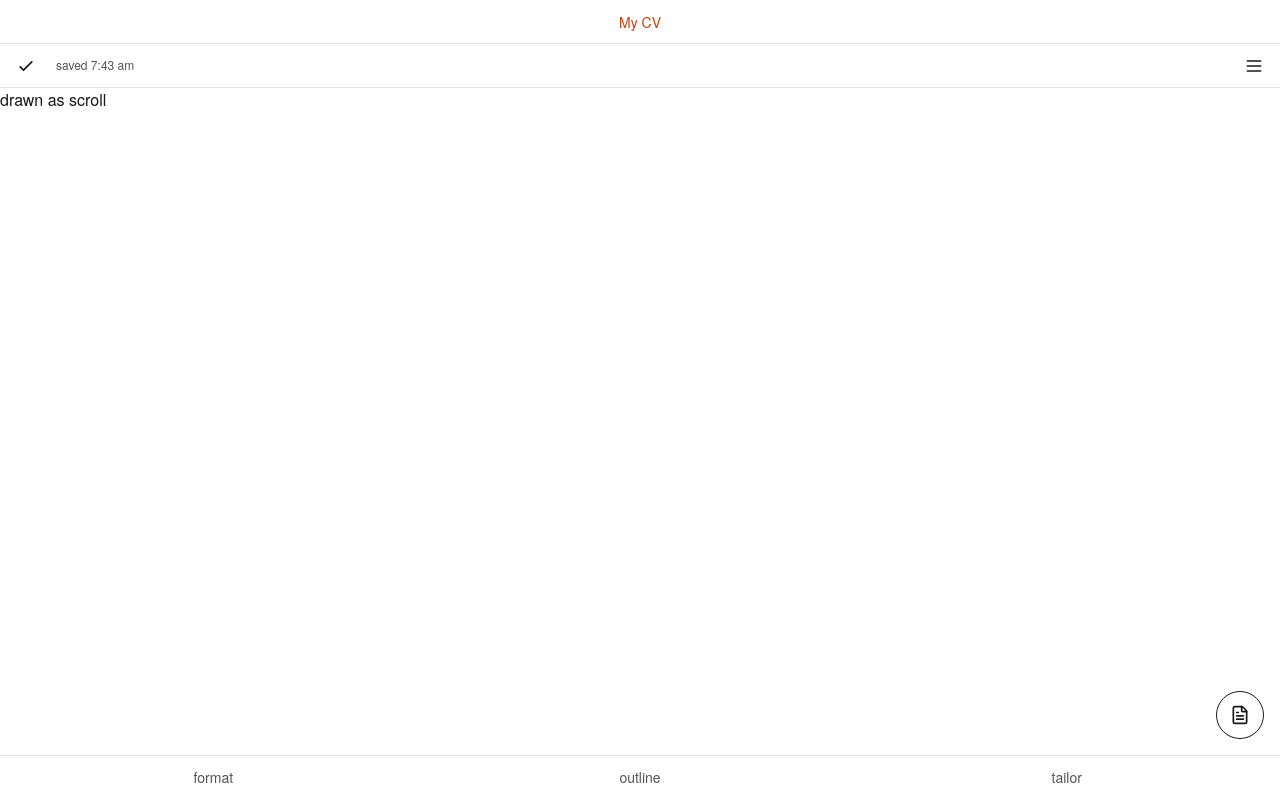
Test: the scroll/print toggle › flips the view, and names the view it will switch TO
Step 1. Click the button named "Switch to print view" → point(1240, 715), box [1216,691,1264,739]
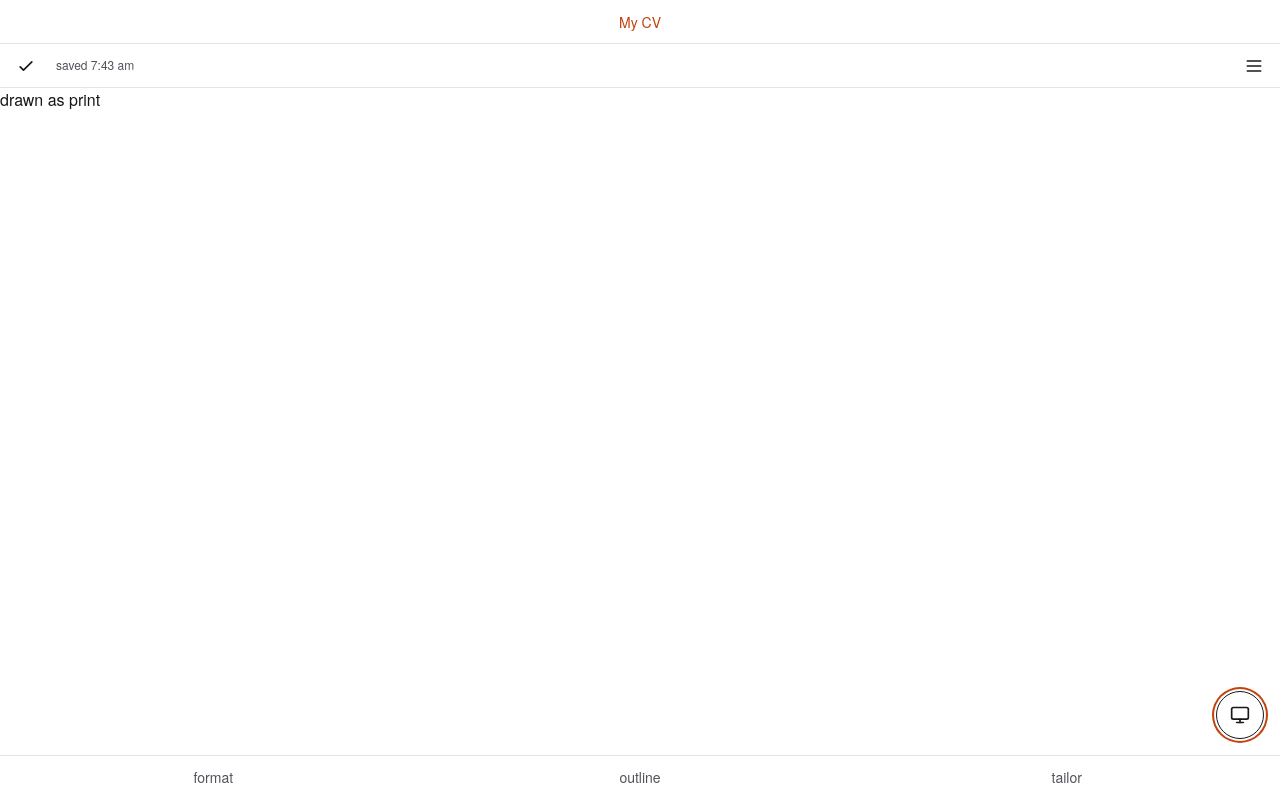
Now the text "drawn as print" is shown, box [0,88,100,111]
Step 2. Click the button named "Switch to scroll view" → point(1240, 715), box [1216,691,1264,739]
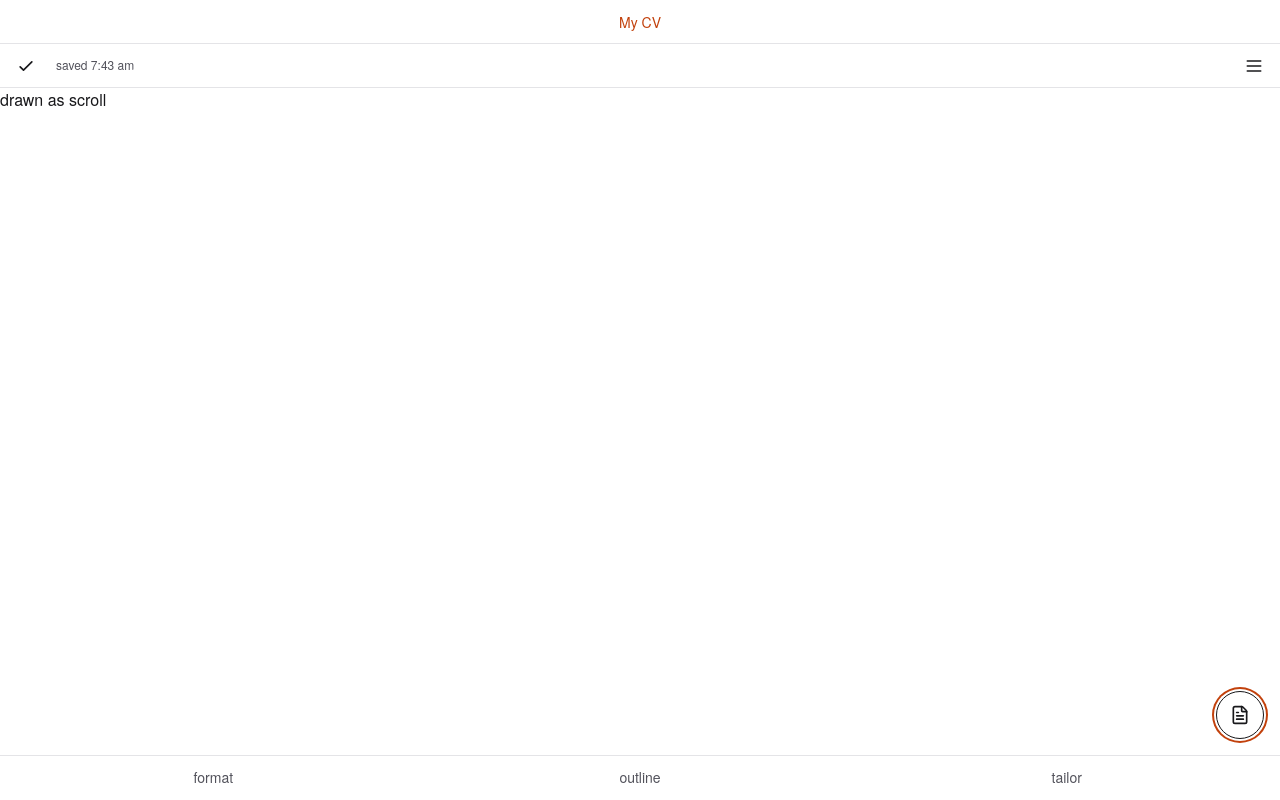
Now the text "drawn as scroll" is shown, box [0,88,106,111]
